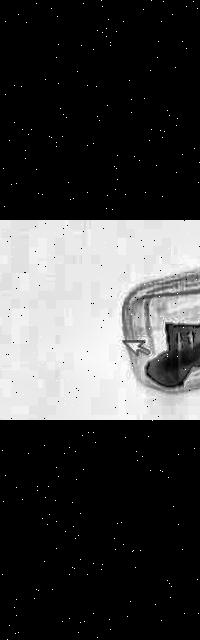Wrench: (88, 244, 200, 387)
